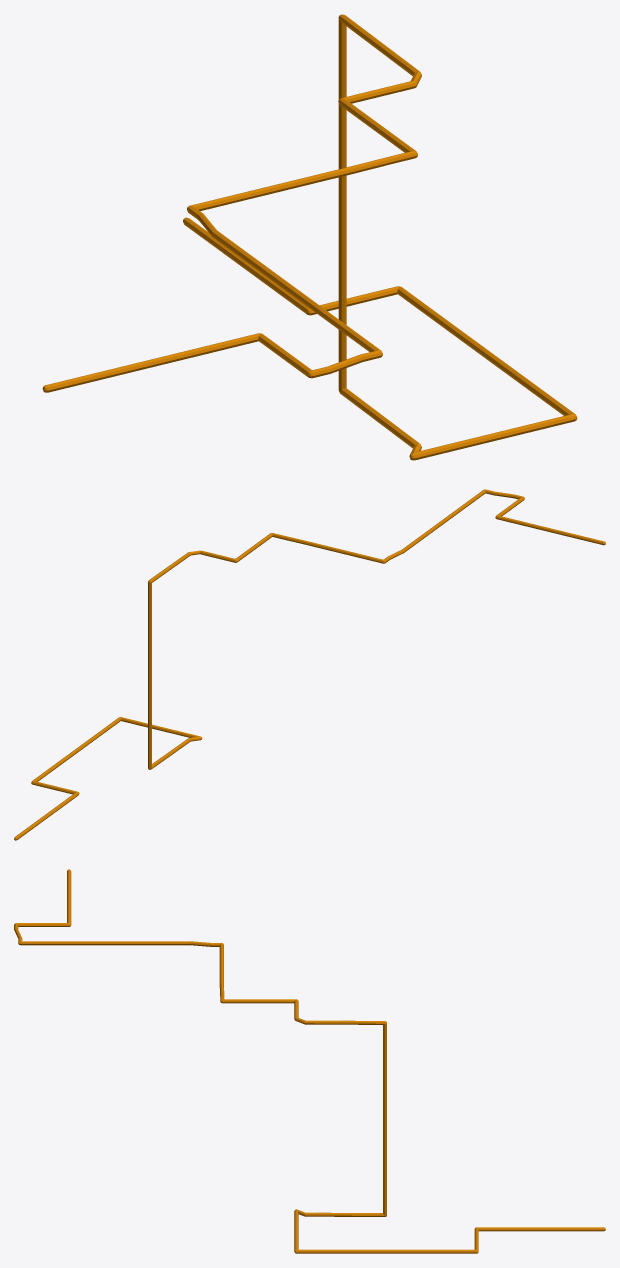
3 renders of one model, top to bottom at view 1: azimuth 30°, elevation 25°; view 2: azimuth 150°, elevation 25°; view 3: azimuth 270°, elevation 25°, orthographic. The views are drawn at different scales.
Bounding box in the file's own units: 2121 × 1020 × 2793.
